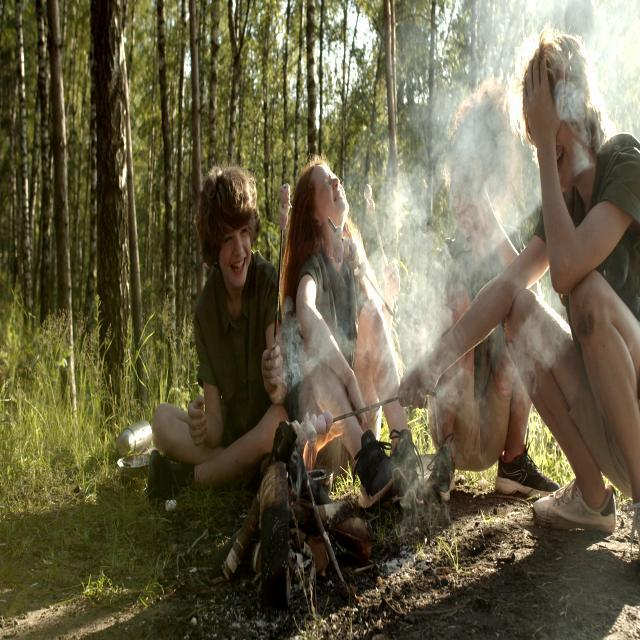Smoke: (370, 0, 550, 410), (266, 262, 436, 444)
